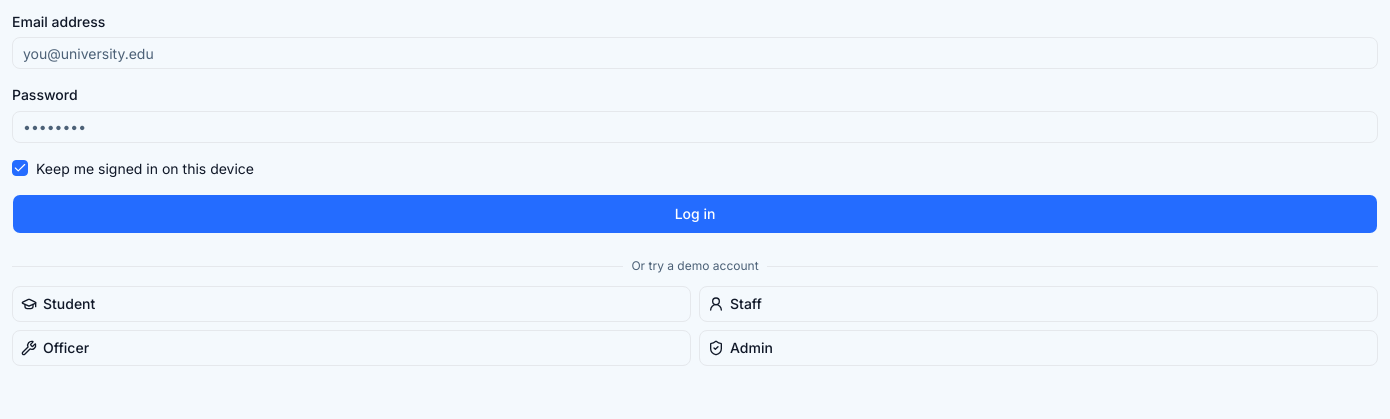
Test: LoginForm › explains rate limiting inline
Click the button "Student". click: [69, 303]
box: [12, 286, 691, 322]
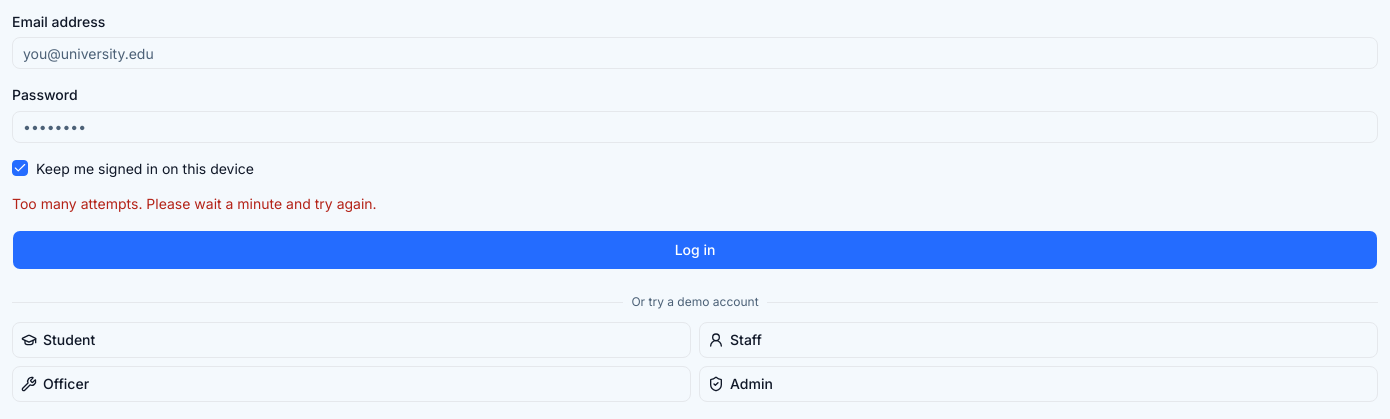
Now the message shows "Too many attempts", box [12, 195, 377, 212]
